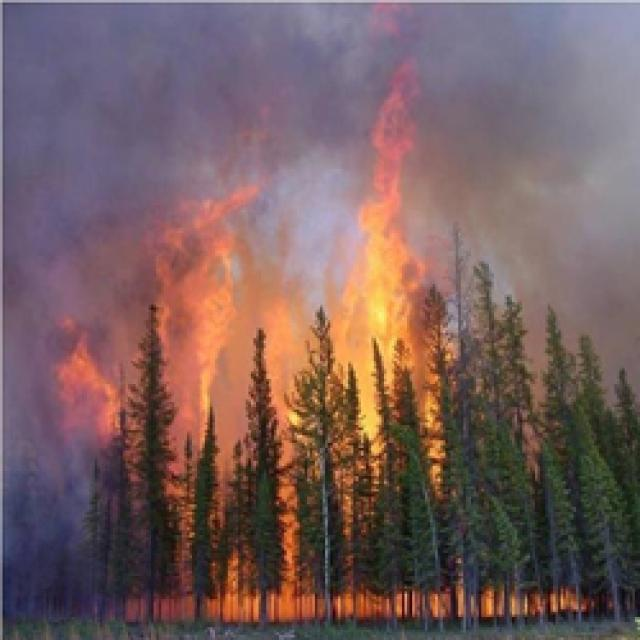Fire: (270, 12, 472, 546), (42, 165, 313, 528), (109, 576, 626, 637)
Smoke: (0, 0, 640, 306), (0, 0, 131, 588)
